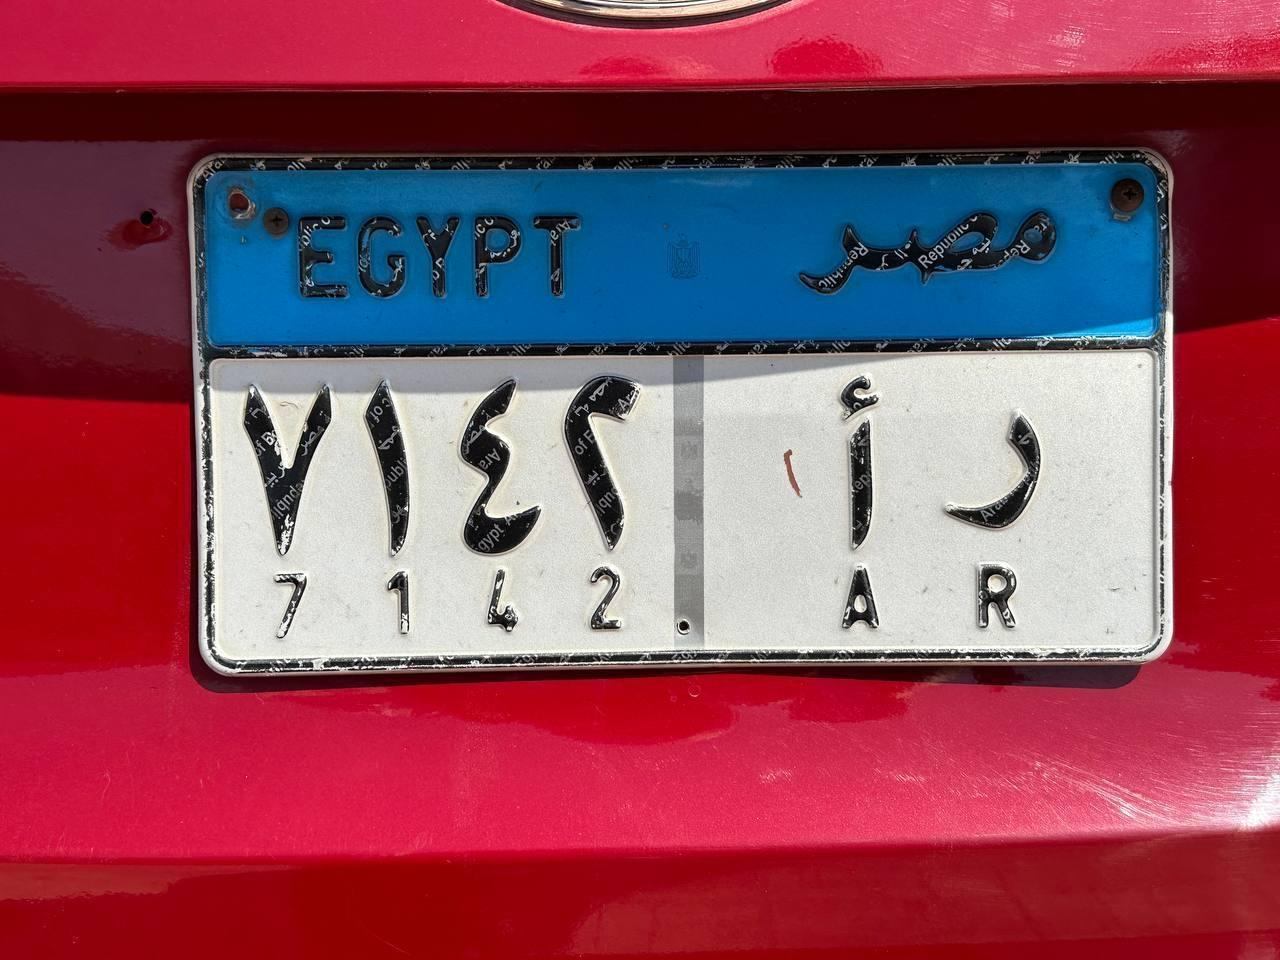1: (353, 361, 427, 586)
2: (554, 353, 648, 560)
4: (454, 374, 544, 562)
7: (240, 378, 330, 560)
License Plate: (185, 144, 1176, 681)
R: (929, 404, 1060, 537)
alef: (810, 370, 894, 554)
